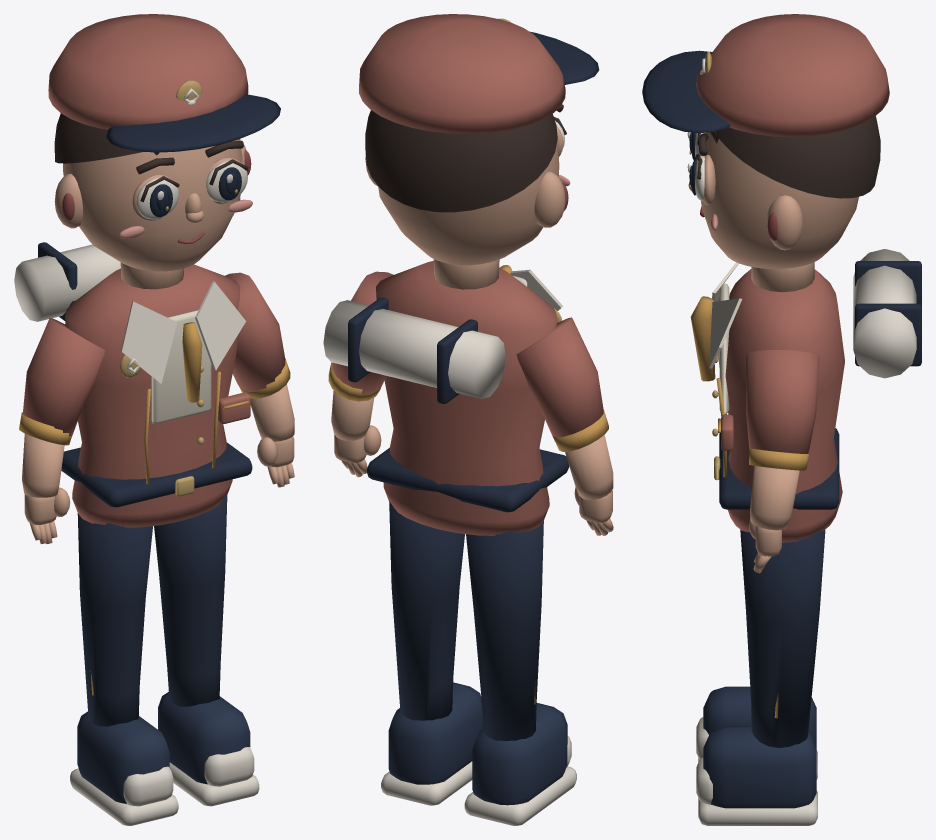
Rendered from npc_valley_trainer_camp_path.glb.
3 renders of one model, left to right at view 1: azimuth 30°, elevation 25°; view 2: azimuth 150°, elevation 25°; view 3: azimuth 270°, elevation 25°, orthographic. The views are drawn at different scales.
Visible parts, largest first — view 1: figure.013; view 2: figure.013; view 3: figure.013.
Part boxes in pixels (x1,y1,x2,y2): figure.013: (14,14,294,825); figure.013: (323,14,613,825); figure.013: (642,14,921,825).
Size of the model in its own units: 0.555 by 1.48 by 0.4942.
